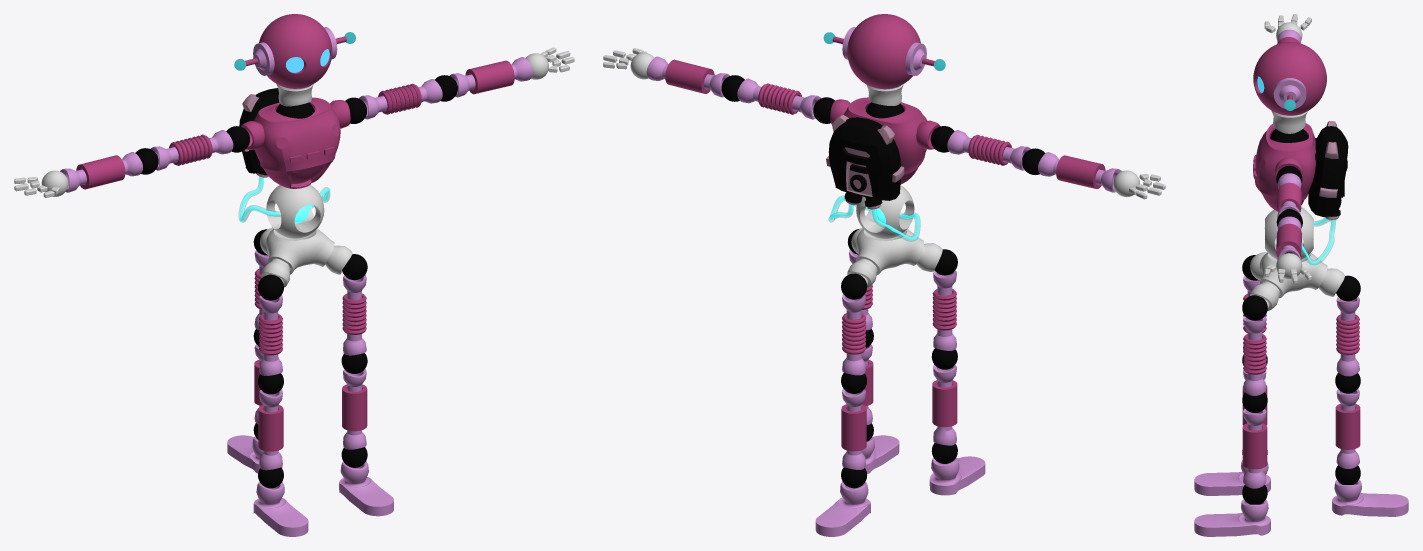
Rendered from Robot 2.0 (3 legs).fbx.
3 renders of one model, left to right at view 1: azimuth 30°, elevation 25°; view 2: azimuth 150°, elevation 25°; view 3: azimuth 270°, elevation 25°, orthographic. The views are drawn at different scales.
Parts seen in each view (by area): view 1: Chest.003, Tors.002, Head, Forearm R, Forearm L, Knee leg R, Foot L.001, Knee leg L, Foot L, Thigh leg R, Thigh leg L, Upper arm R (+4 smaller); view 2: bag, Head, Tors.002, Chest.003, Forearm R, Forearm L, Foot 3, Knee leg R, Knee leg 3, Thigh leg 3, Upper arm L, Upper arm R (+4 smaller); view 3: Head, Tors.002, Chest.003, bag, Foot L, Foot 3, Knee leg 3, Knee leg L, Thigh leg L, Thigh leg 3, Foot L.001, Forearm L (+6 smaller).
Part boxes in pixels (box(x1,y1,x2,y2)): Chest.003: box(241, 97, 350, 188); Tors.002: box(260, 185, 352, 287); Head: box(234, 14, 355, 88); Forearm R: box(60, 148, 158, 192); Forearm L: box(434, 57, 532, 101); Knee leg R: box(258, 373, 283, 470); Foot L.001: box(253, 467, 308, 536); Knee leg L: box(341, 353, 367, 449); Foot L: box(339, 447, 393, 516); Thigh leg R: box(258, 274, 283, 375); Thigh leg L: box(342, 254, 367, 355); Upper arm R: box(150, 126, 249, 170); bag: box(826, 115, 904, 209); Head: box(823, 14, 945, 89); Tors.002: box(847, 185, 942, 288); Chest.003: box(830, 97, 940, 184); Forearm R: box(1022, 148, 1121, 192); Forearm L: box(646, 56, 744, 101); Foot 3: box(815, 467, 870, 536); Knee leg R: box(931, 348, 957, 445); Knee leg 3: box(841, 372, 866, 469); Thigh leg 3: box(841, 273, 867, 375); Upper arm L: box(737, 78, 835, 123); Upper arm R: box(930, 126, 1030, 170); Head: box(1253, 42, 1326, 115); Tors.002: box(1250, 208, 1344, 311); Chest.003: box(1253, 123, 1315, 211); bag: box(1308, 121, 1348, 219); Foot L: box(1194, 485, 1270, 536); Foot 3: box(1332, 465, 1408, 516); Knee leg 3: box(1335, 372, 1360, 468); Knee leg L: box(1242, 392, 1267, 488); Thigh leg L: box(1242, 295, 1267, 395); Thigh leg 3: box(1336, 275, 1360, 376); Foot L.001: box(1194, 450, 1270, 495); Forearm L: box(1276, 209, 1302, 260).
Size of the model in its own units: 4.77 by 3.88 by 1.62.
